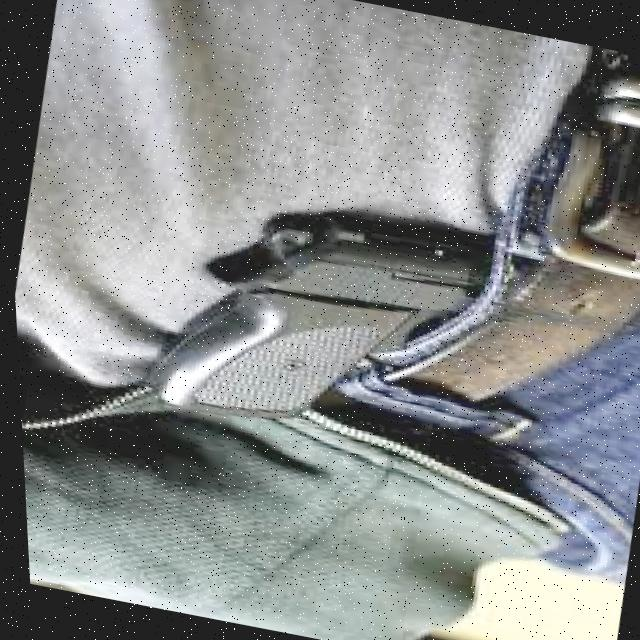pistol: (123, 186, 500, 467)
